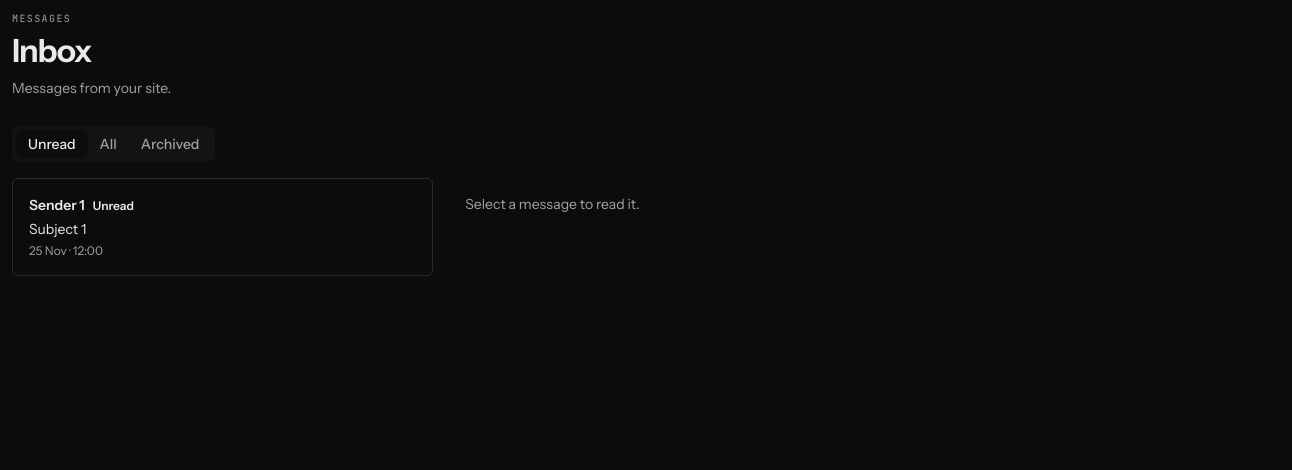
Test: messages inbox › archives from Unread and unarchives from Archived
The width and height of the screenshot is (1292, 470).
Click the button "Sender 1Unread Subject 1 25 Nov · 12:00": (57, 205) [13, 179, 432, 275]
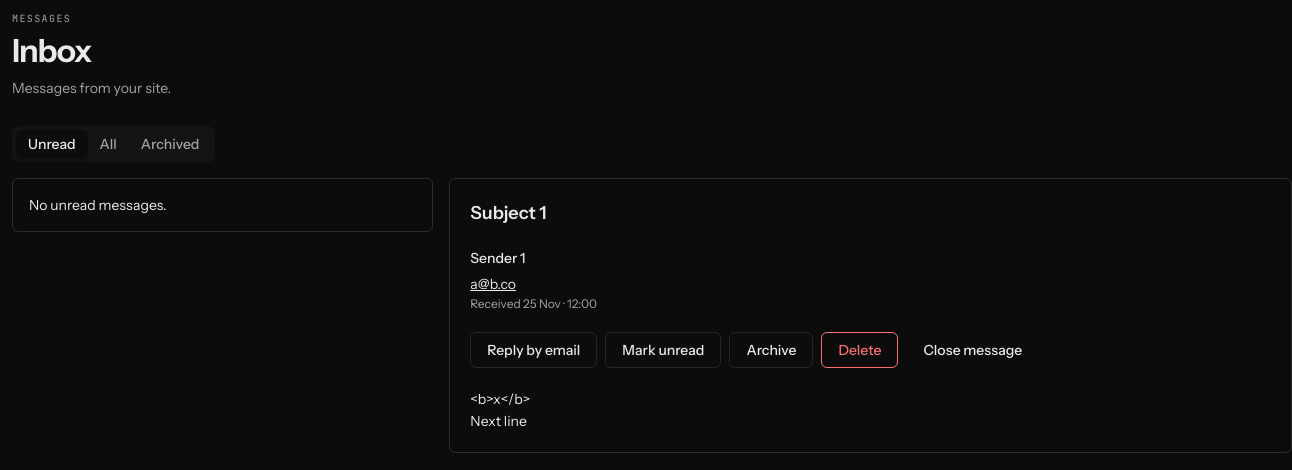
Click the button "Archive": (771, 350) [729, 332, 813, 368]
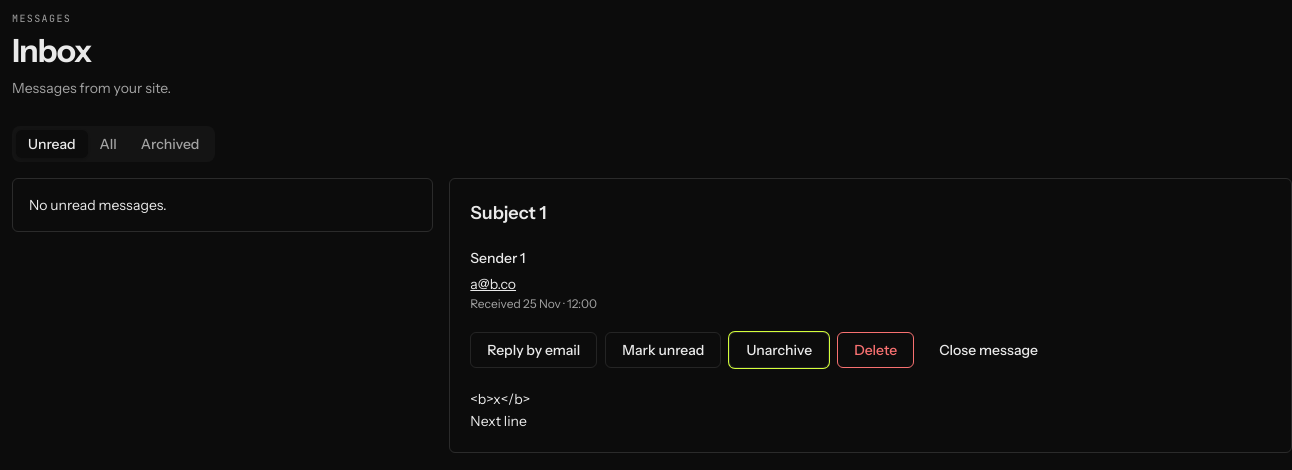
Now the text "No unread messages." is shown, box [29, 196, 167, 214]
Click the tab "Archived": (170, 144) [129, 130, 211, 158]
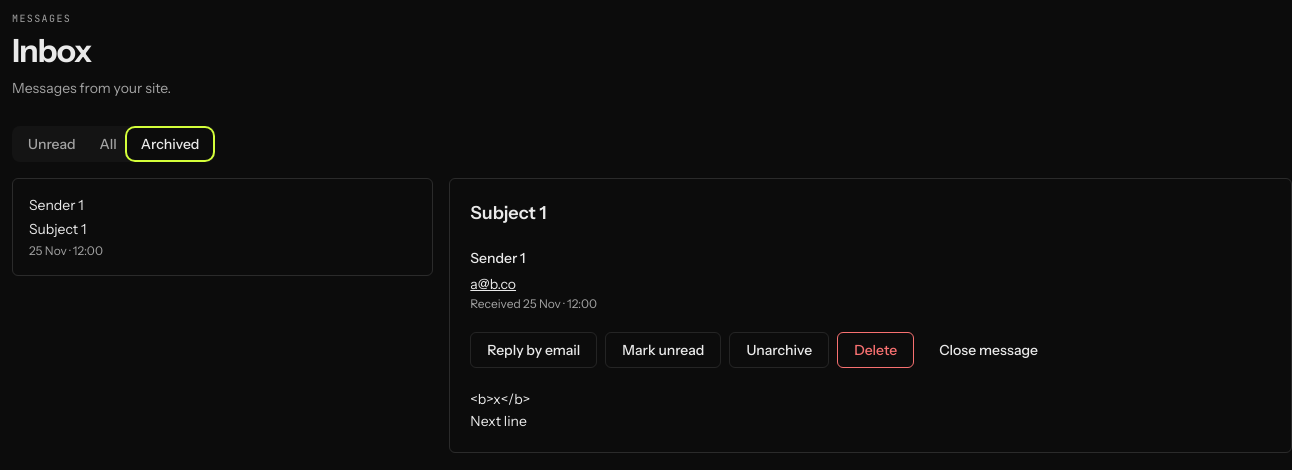
Click the button "Sender 1 Subject 1 25 Nov · 12:00": (56, 205) [13, 179, 432, 275]
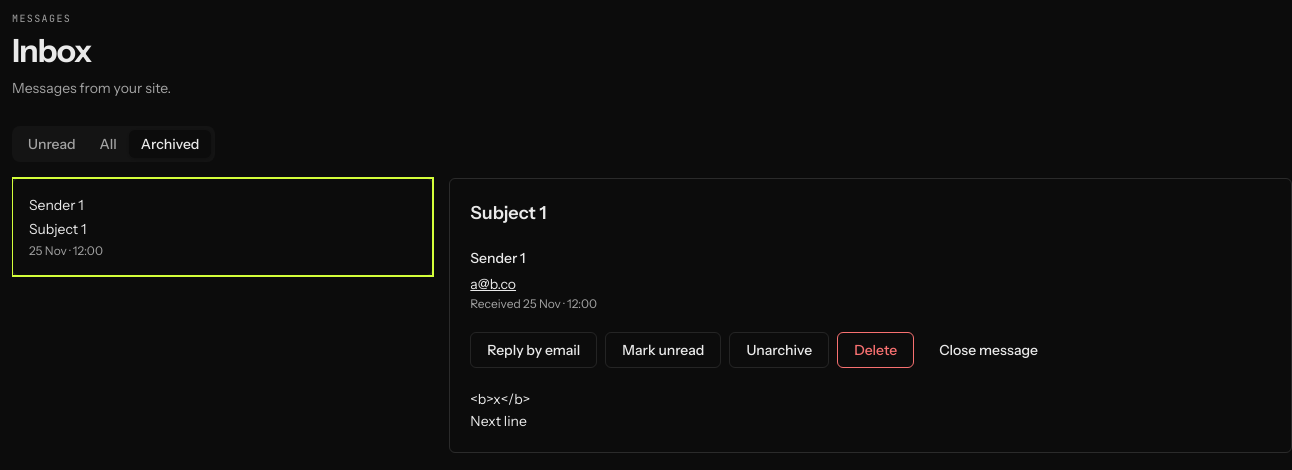
Click the button "Unarchive": (779, 350) [729, 332, 829, 368]
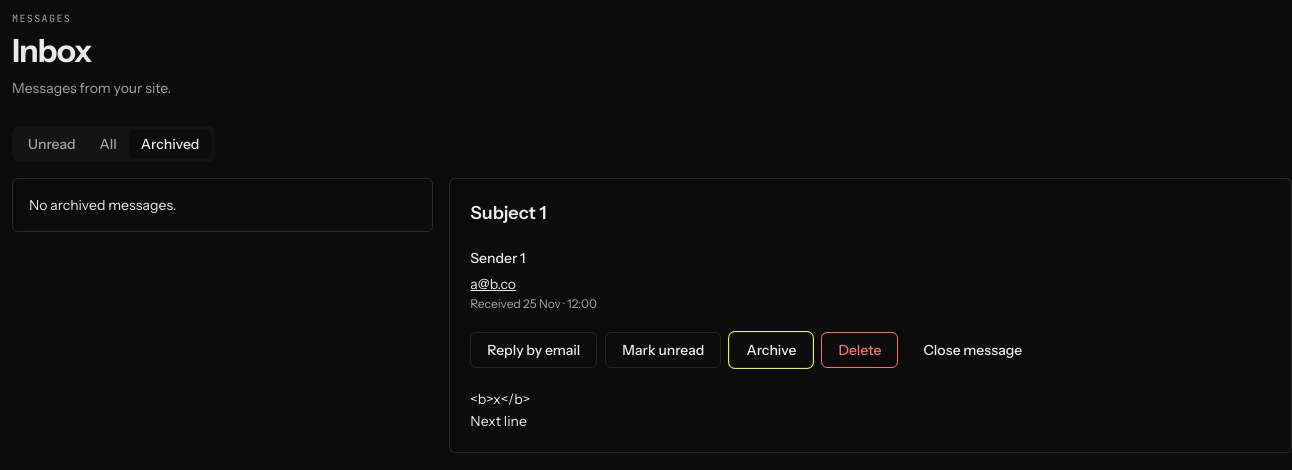
Now the text "No archived messages." is shown, box [29, 196, 176, 214]
